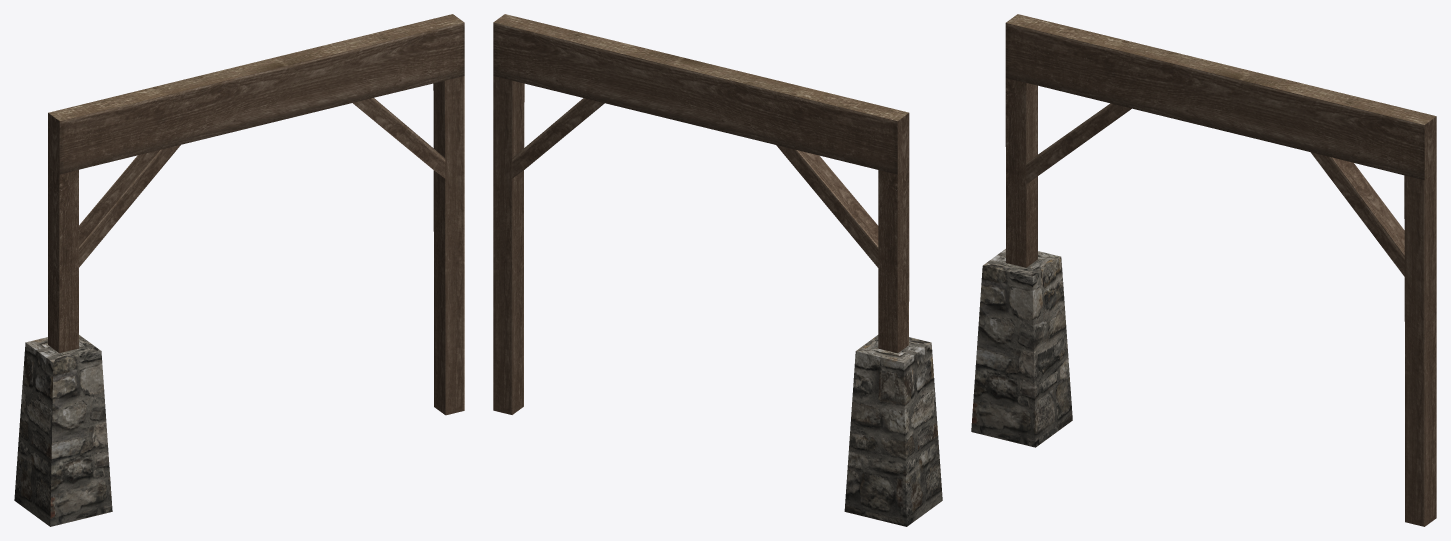
The model's file is House_Stone_Wall_Plan.dae.
3 renders of one model, left to right at view 1: azimuth 30°, elevation 25°; view 2: azimuth 150°, elevation 25°; view 3: azimuth 330°, elevation 25°, orthographic. The views are drawn at different scales.
Visible parts, largest first — view 1: StoneWallPlan1; view 2: StoneWallPlan1; view 3: StoneWallPlan1.
Part boxes in pixels (bbox=[...]): StoneWallPlan1: bbox=[14, 14, 464, 526]; StoneWallPlan1: bbox=[493, 14, 942, 526]; StoneWallPlan1: bbox=[971, 14, 1436, 526].
Bounding box in the file's own units: 4.21 × 3.7 × 0.6152.
1 material, 1 textured.
